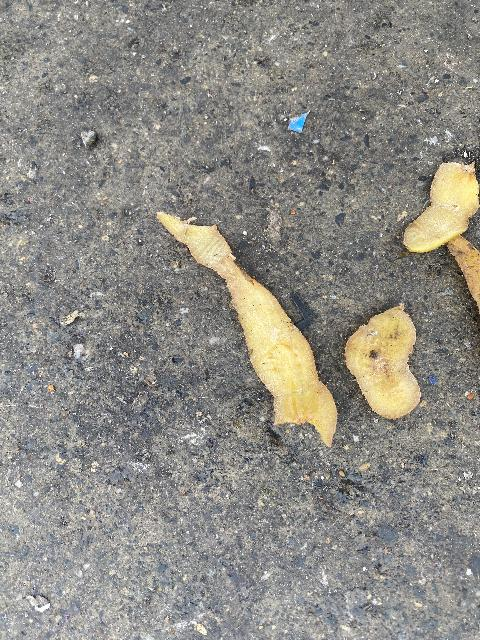Organik: (157, 209, 340, 449), (344, 302, 423, 421), (402, 163, 480, 254)
